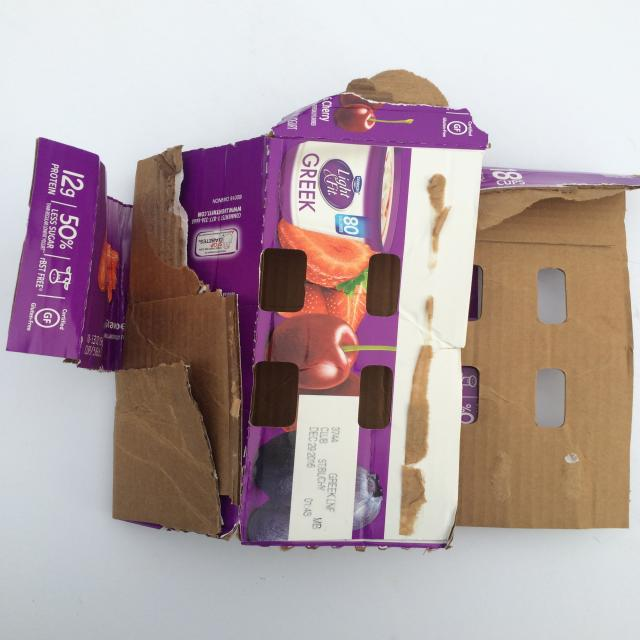cardboard: (18, 63, 640, 583)
